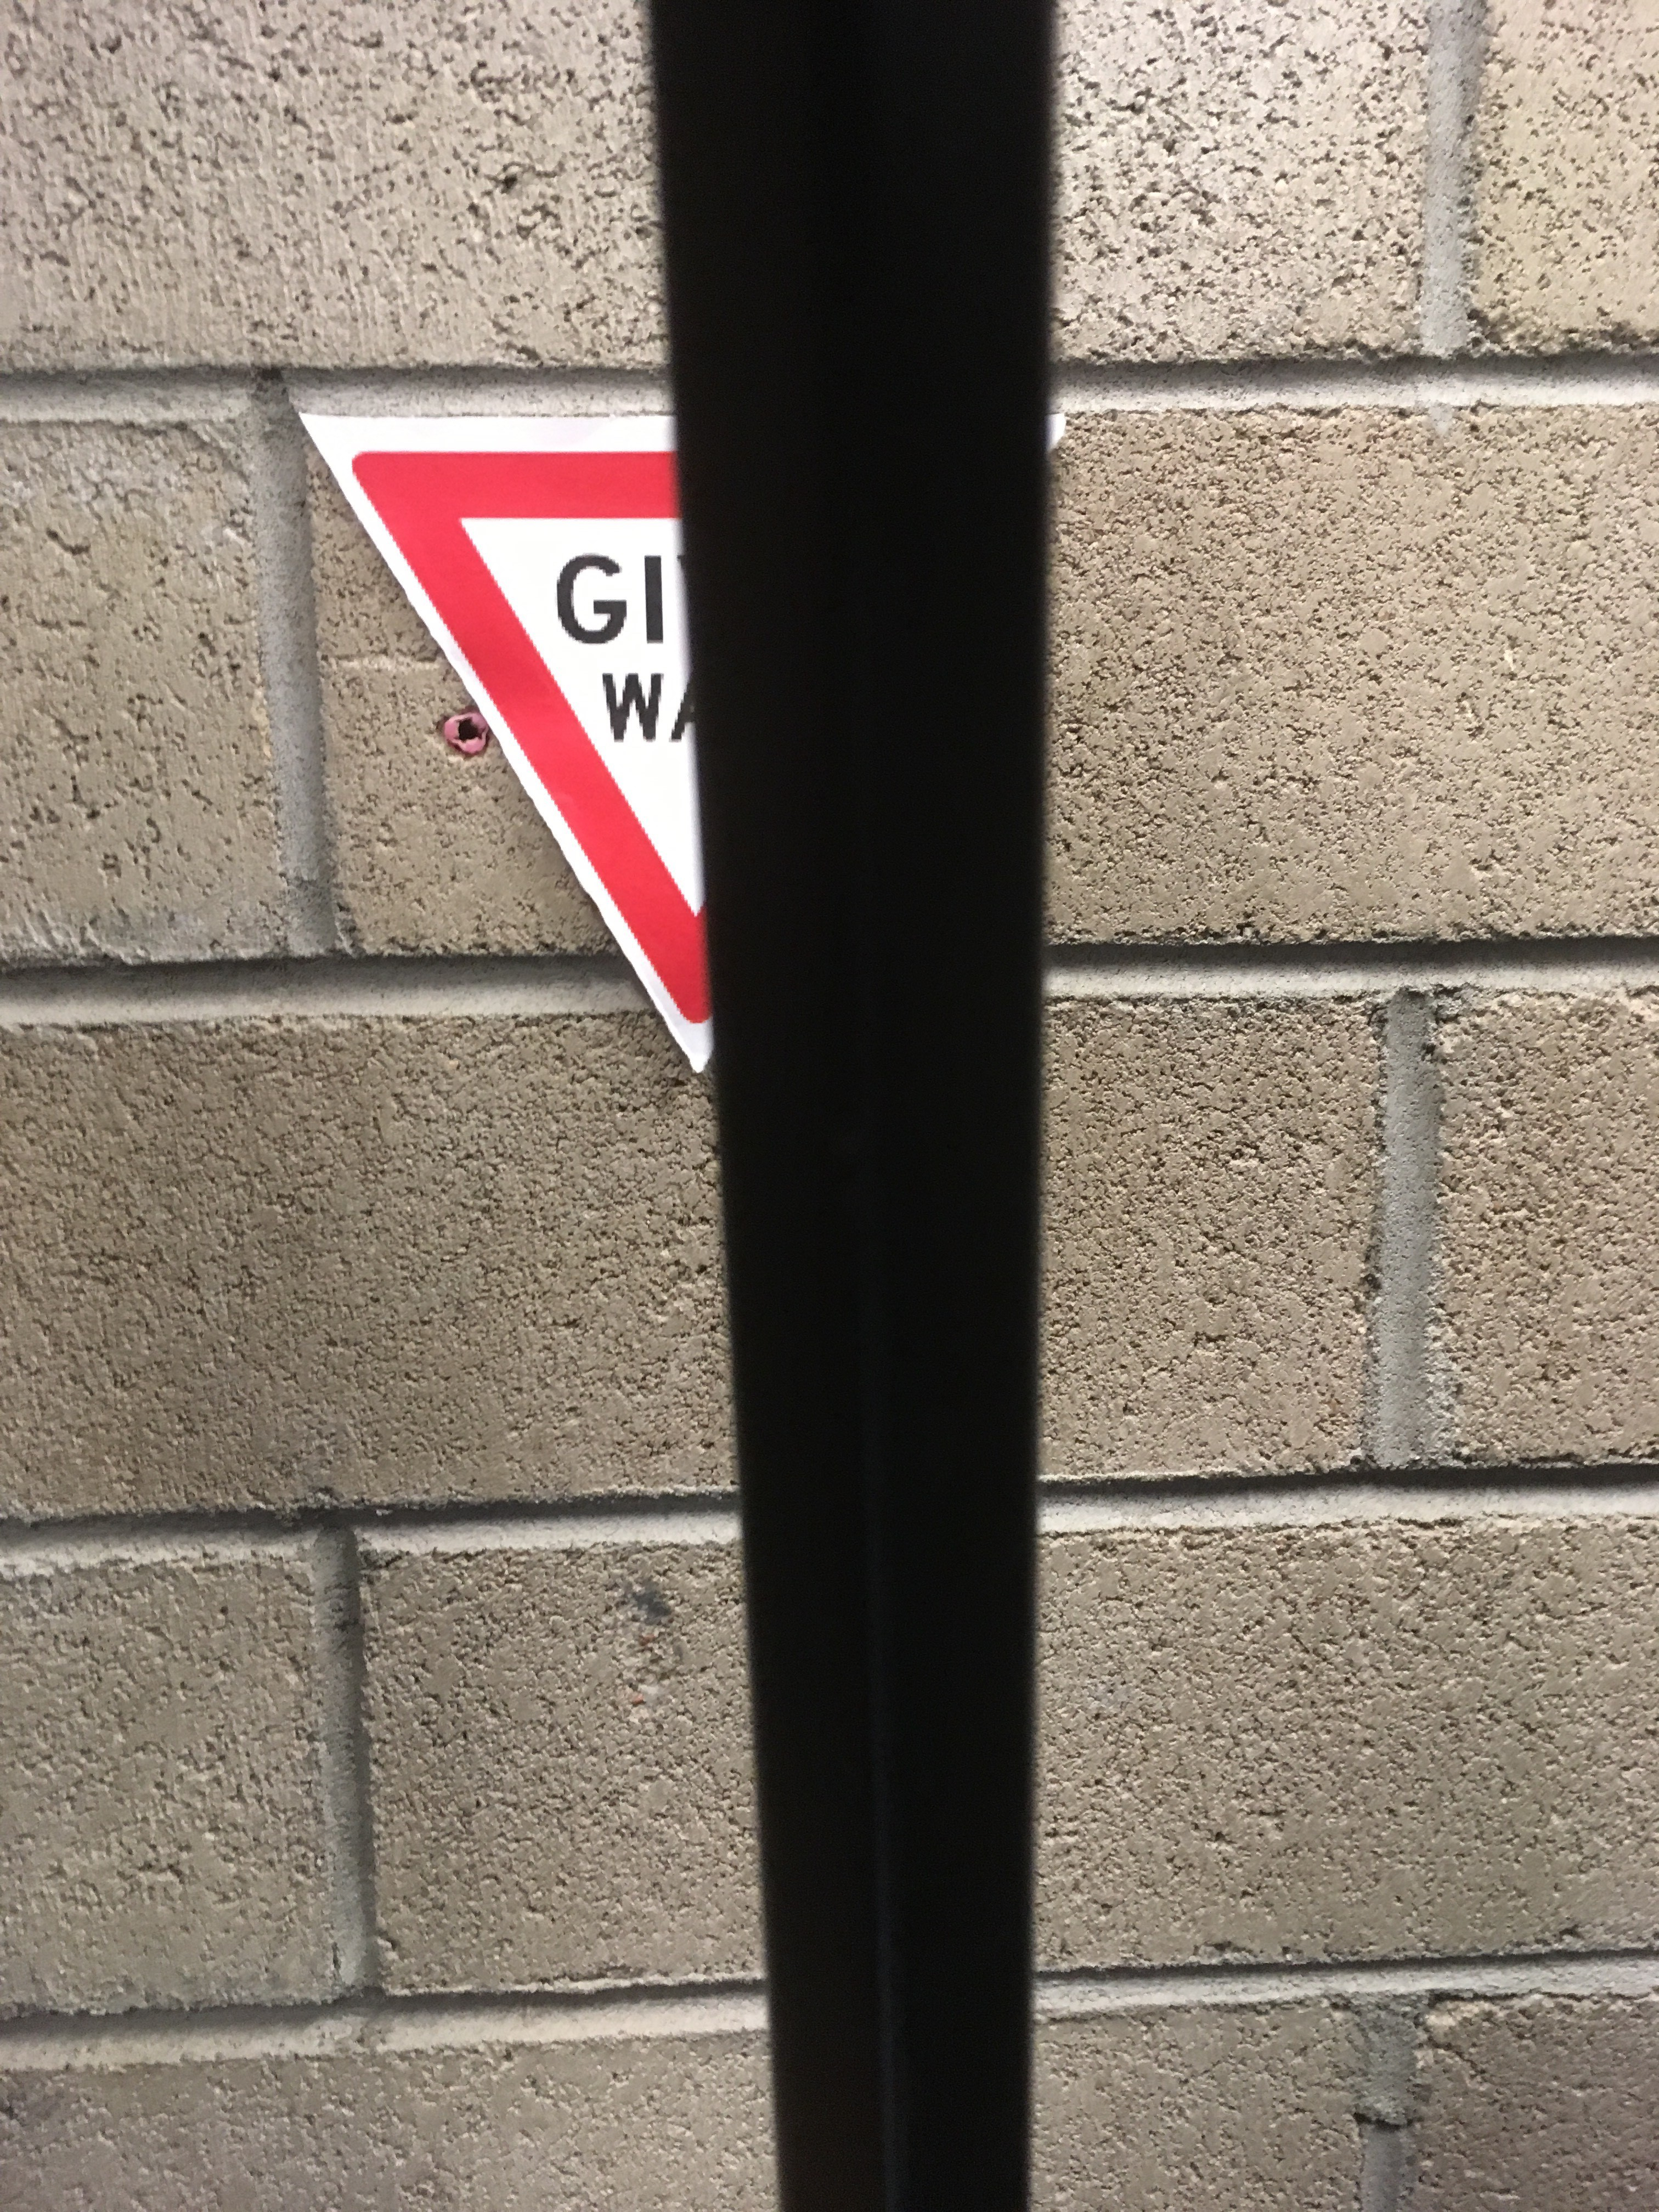giveway: (286, 381, 809, 1066), (315, 430, 746, 1055), (392, 446, 704, 1001)
